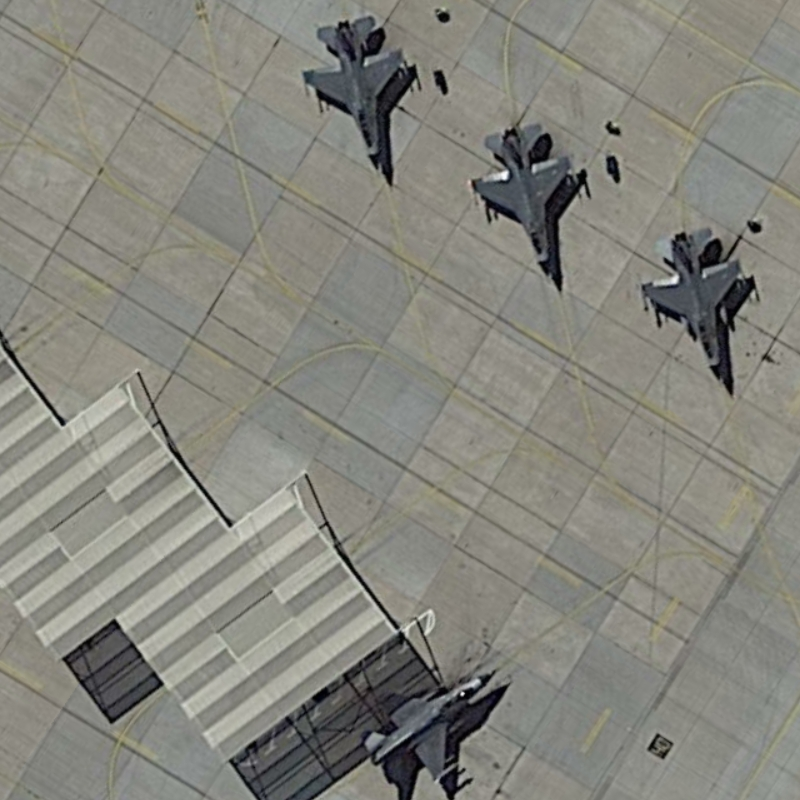A5: (297, 9, 418, 179), (460, 115, 581, 285), (349, 656, 503, 789), (635, 217, 751, 388)
